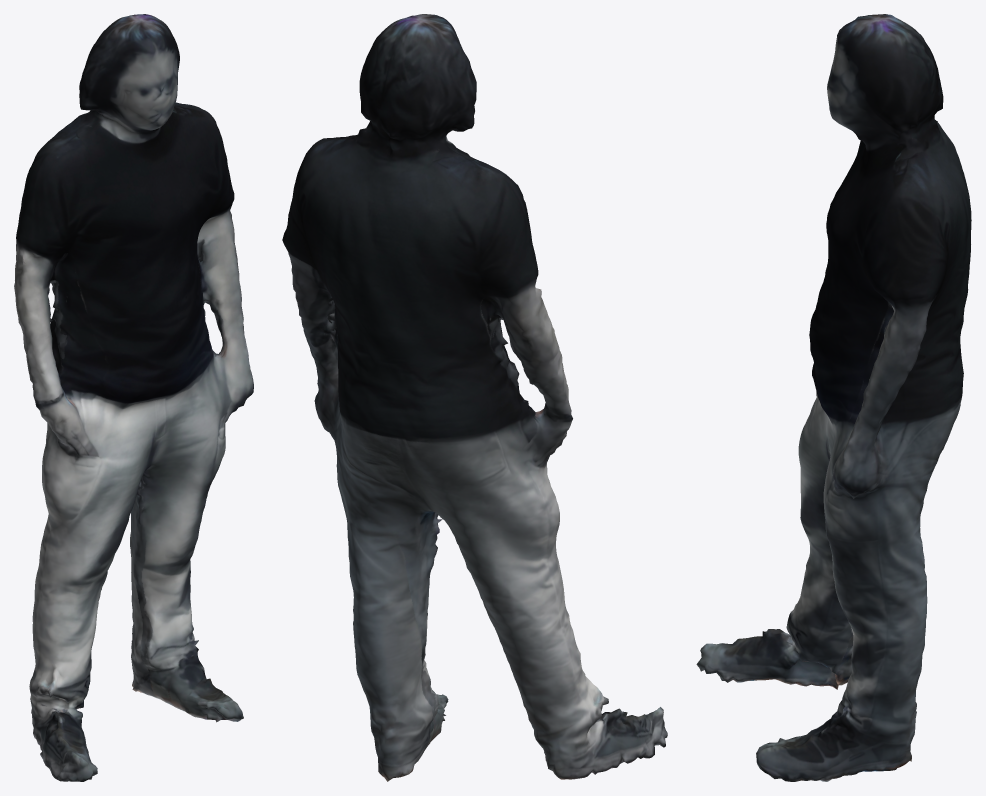
Rendered from My_friend_isaac_0712000950.fbx.
3 views of the same model, side by side, from view 1: azimuth 30°, elevation 25°; view 2: azimuth 150°, elevation 25°; view 3: azimuth 270°, elevation 25° (orthographic). The views are drawn at different scales.
Parts seen in each view (by area): view 1: Mesh_0; view 2: Mesh_0; view 3: Mesh_0.
Boxes of the visible parts, left/top/right/bottom form: Mesh_0: left=14, top=14, right=253, bottom=781; Mesh_0: left=282, top=14, right=667, bottom=781; Mesh_0: left=696, top=14, right=971, bottom=781.
Bounding box in the file's own units: 46.88 × 120 × 40.45.
Materials: 1 (1 with a texture image).
